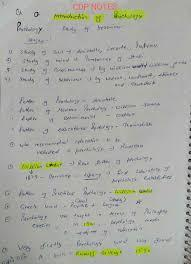text: (21, 59, 188, 76), (17, 236, 174, 254), (19, 70, 179, 87), (2, 246, 153, 264), (19, 39, 160, 58), (7, 155, 153, 172), (24, 165, 170, 182), (20, 207, 168, 223), (19, 101, 161, 117), (17, 120, 153, 136), (22, 51, 145, 68), (17, 186, 153, 200), (20, 111, 135, 125), (8, 137, 120, 151), (35, 142, 144, 156), (18, 95, 118, 108), (70, 216, 159, 229), (19, 202, 120, 212), (75, 225, 144, 239), (110, 173, 173, 184), (62, 23, 122, 34), (71, 1, 115, 12), (74, 195, 127, 204), (114, 79, 156, 90), (15, 21, 44, 35), (53, 12, 88, 22), (113, 10, 143, 21), (22, 36, 45, 46), (31, 221, 50, 230), (15, 8, 24, 17), (0, 246, 8, 254), (95, 15, 102, 24), (33, 10, 40, 18), (6, 57, 13, 65), (4, 189, 10, 198), (5, 214, 10, 224), (3, 76, 10, 83), (134, 199, 141, 205), (8, 48, 13, 56), (5, 202, 10, 210), (5, 67, 10, 73)
